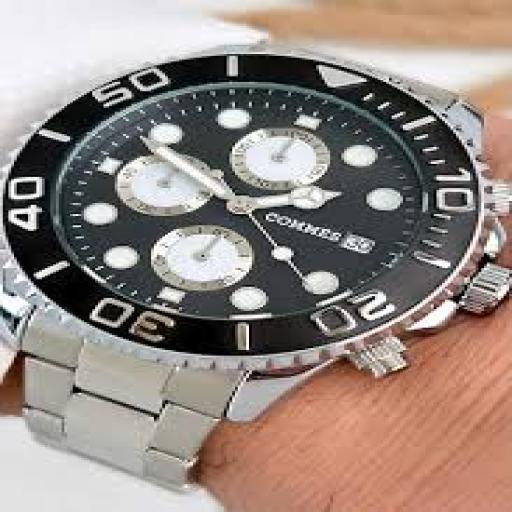KolSaati: (4, 4, 488, 484)
